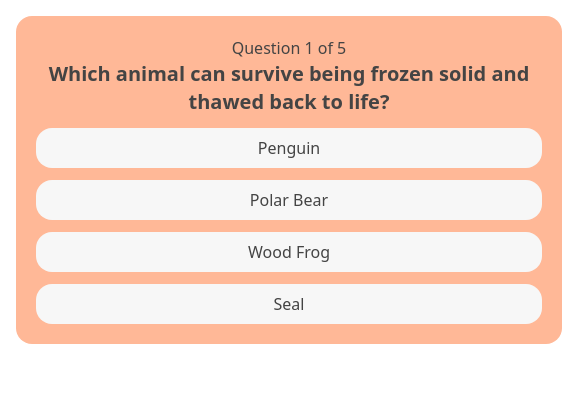
That the next button works properly › Tests that the question number changes
Expected: the heading "Question 1 of 5" is shown, x1=232 y1=37 x2=346 y2=59
Click the button "Penguin" at (289, 148), box x1=36 y1=128 x2=542 y2=168
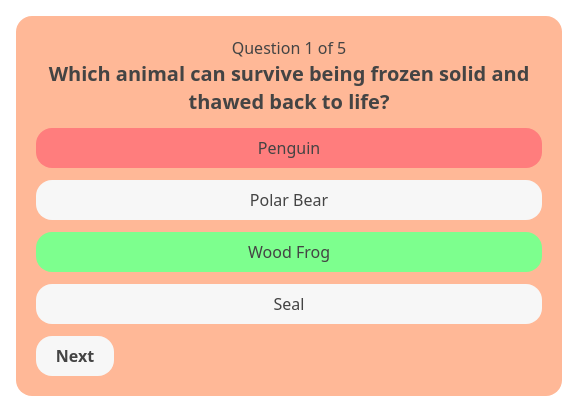
Expected: the button "Next" is shown
Click the button "Next" at (75, 356), box x1=36 y1=336 x2=114 y2=376
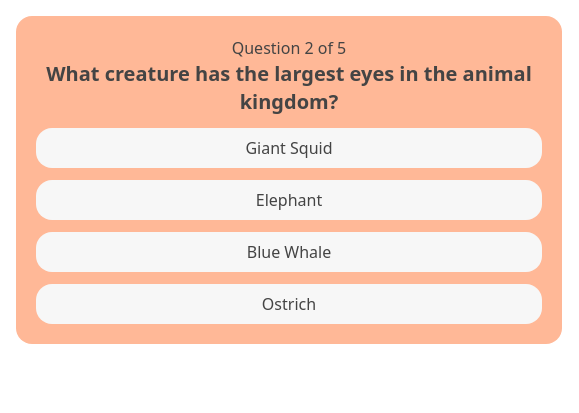
Expected: the heading "Question 2 of 5" is shown, x1=232 y1=37 x2=346 y2=59
